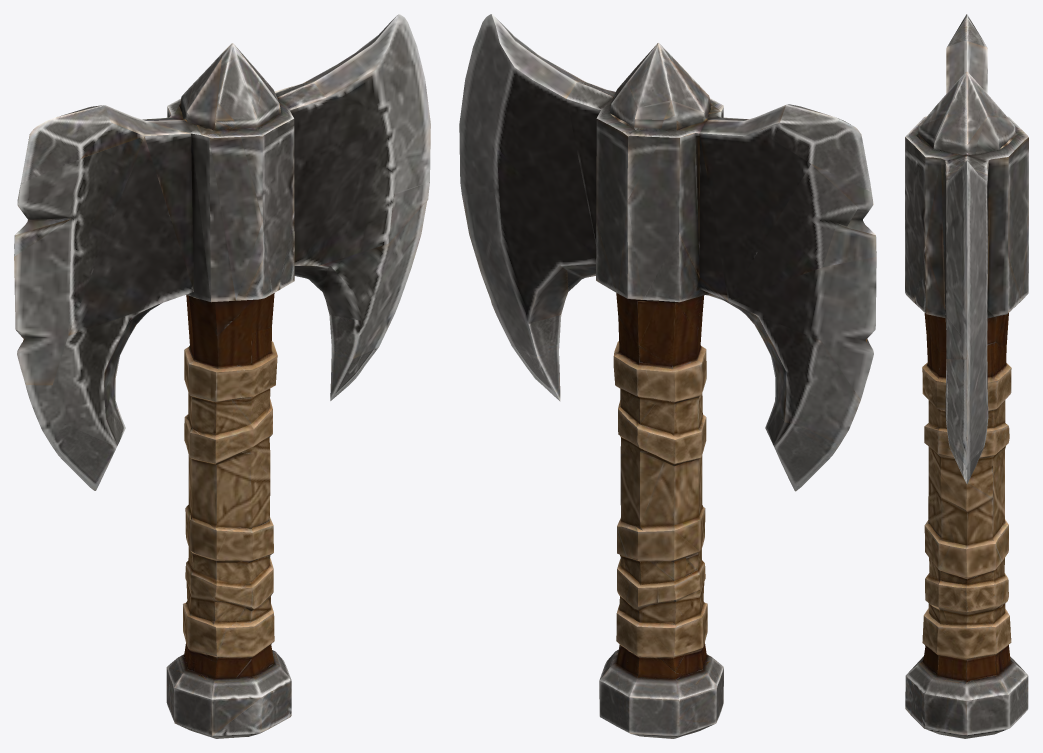
File: woodsplitter_axe.glb
3 renders of one model, left to right at view 1: azimuth 30°, elevation 25°; view 2: azimuth 150°, elevation 25°; view 3: azimuth 270°, elevation 25°, orthographic. The views are drawn at different scales.
Bounding box in the file's own units: 1.11 × 1.72 × 0.2973.
Materials: 1 (1 with a texture image).
